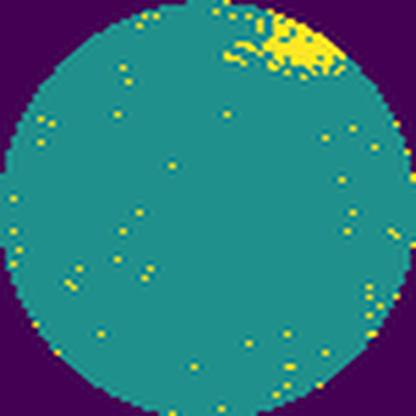Edge-Loc: (233, 7, 365, 88)
